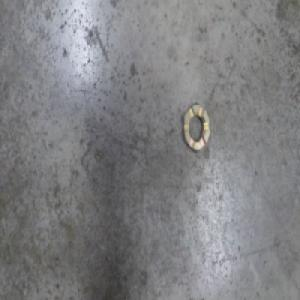Nut: (182, 101, 210, 155)
